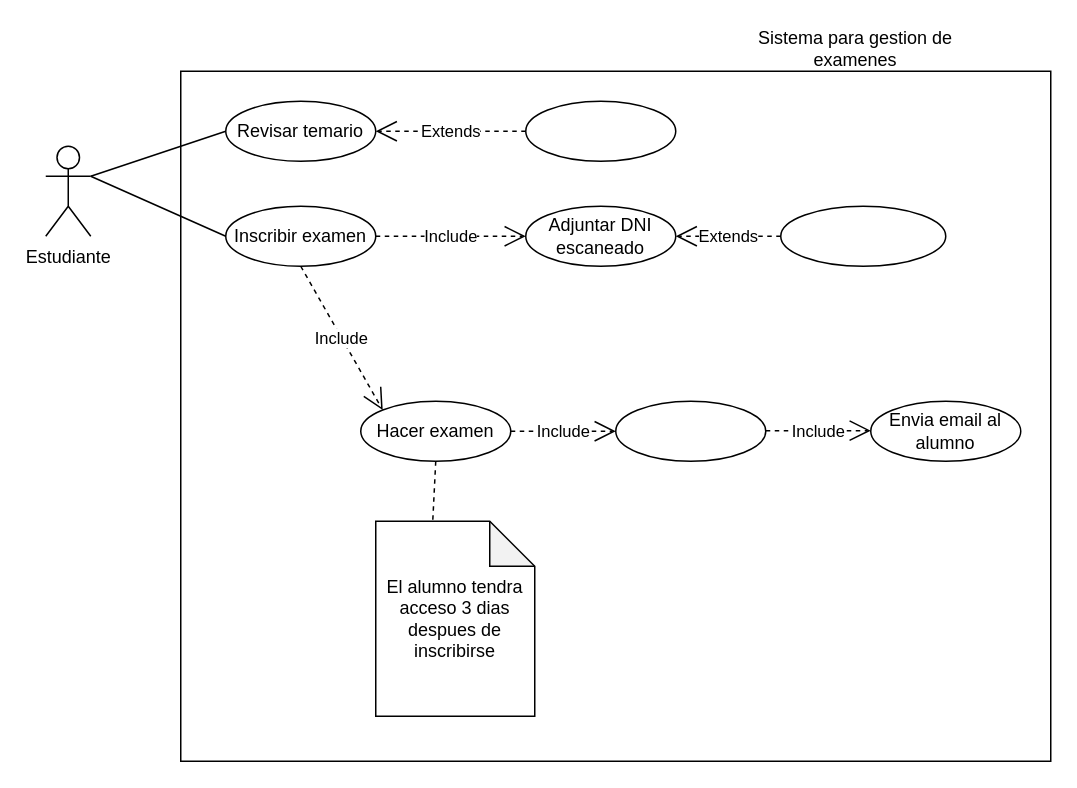
The diagram is 1077 pixels wide and 788 high, and some of its shapes have lost their labels. The shapes that lost their labels are listed below. From the top down, each one's box as (x1, y1, x2, y2) in pixels, then its label:
(524, 100, 676, 161): Tests
(779, 205, 946, 266): Adjuntar solicitud de la beca
(614, 400, 766, 461): Almacena nota
